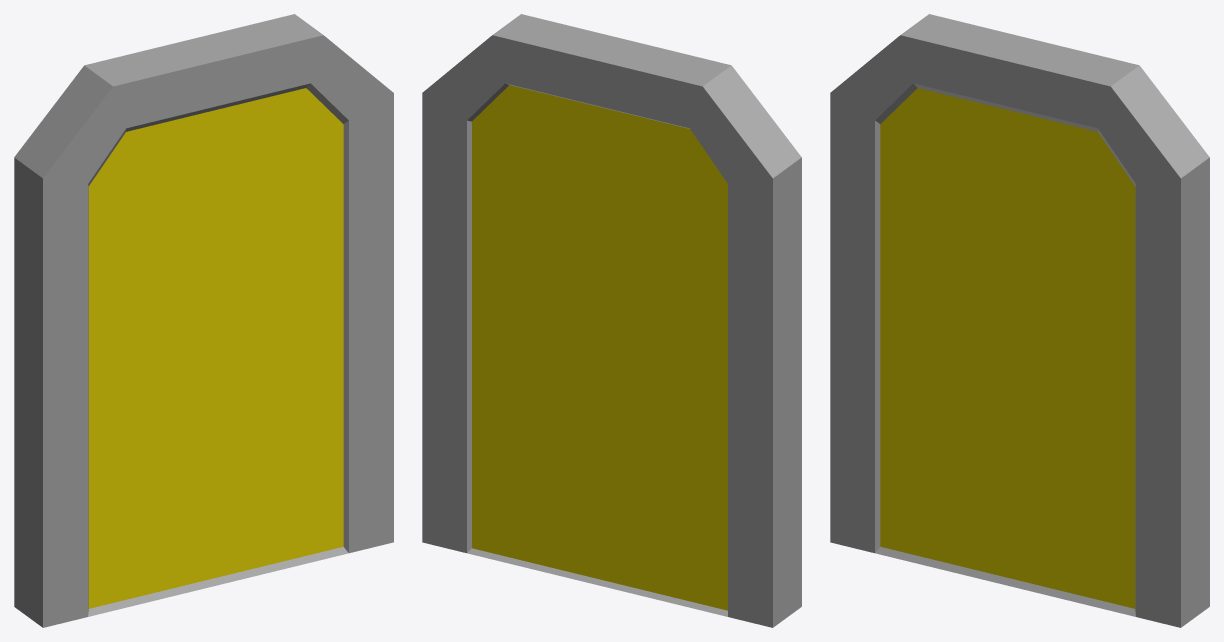
Rendered from wall.fbx.
3 views of the same model, side by side, from view 1: azimuth 30°, elevation 25°; view 2: azimuth 150°, elevation 25°; view 3: azimuth 330°, elevation 25° (orthographic).
Visible parts, largest first — view 1: pCube1; view 2: pCube1; view 3: pCube1.
Part boxes in pixels (bbox=[...]): pCube1: bbox=[14, 14, 393, 627]; pCube1: bbox=[422, 14, 801, 627]; pCube1: bbox=[830, 14, 1209, 627].
Size of the model in its own units: 70 by 100 by 10.
